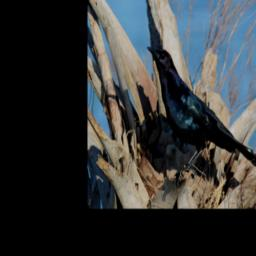Crow: (146, 46, 256, 188)
